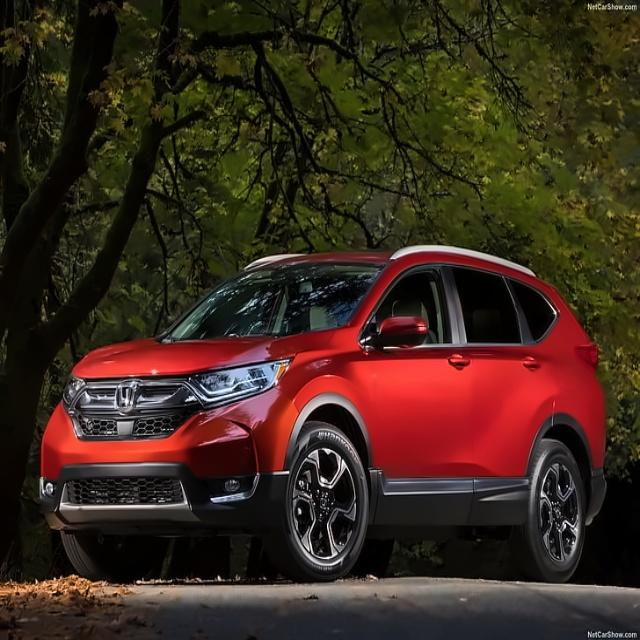Car hood: (65, 331, 332, 382)
Fender - -F-L-: (277, 317, 380, 530)
Fender - -R-L-: (541, 344, 614, 466)
Front bumper: (32, 393, 299, 543)
Headlight - -L-: (176, 351, 300, 413)
Headlight - -R-: (51, 365, 94, 418)
Passenger-s door - -F-L-: (367, 250, 478, 486)
Passenger-s door - -R-L-: (465, 251, 560, 489)
Rear bumper: (582, 462, 619, 533)
Rear light - -L-: (571, 330, 608, 376)
Side bumper - -L-: (365, 463, 535, 538)
Side mirror - -L-: (368, 311, 431, 355)
